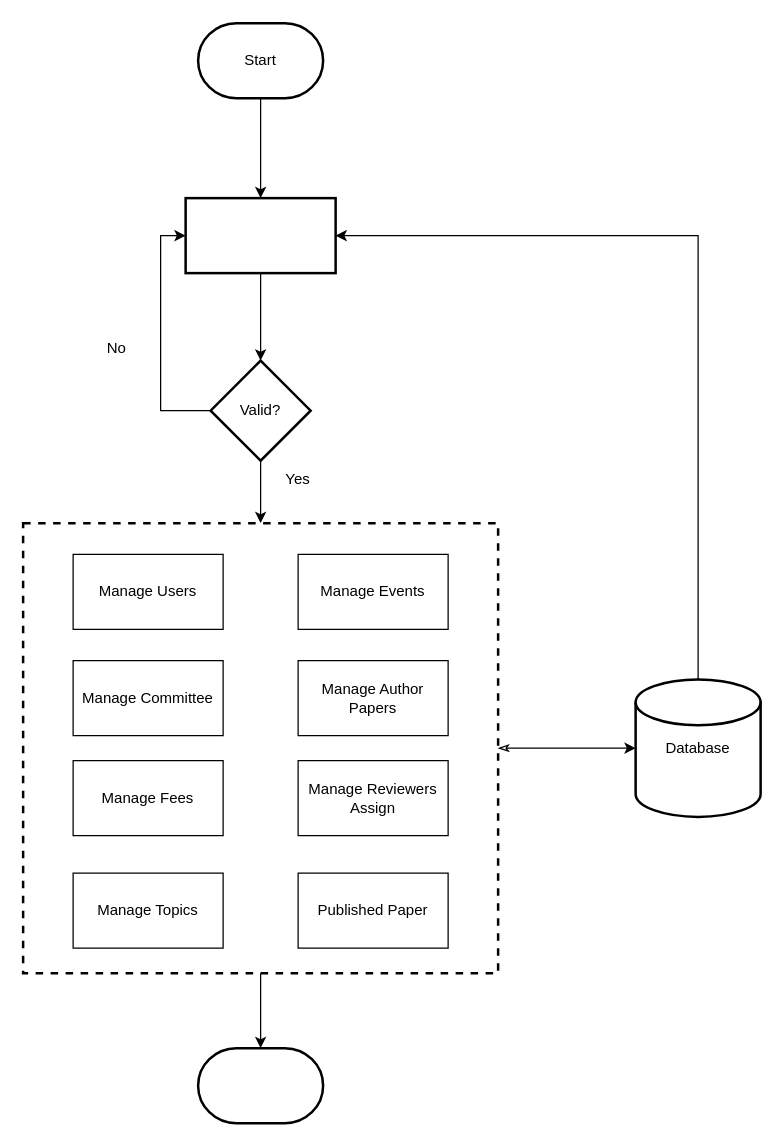
This 783x1145 diagram has some shape labels left out. Here are the shapes that lost their labels. From the top down, the centre of each, then its label:
point (260, 235): Log in
point (260, 1085): End
